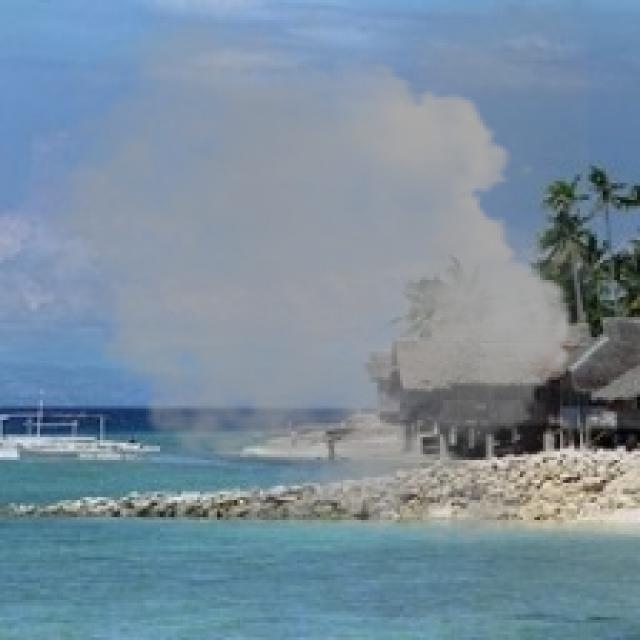Smoke: (20, 3, 589, 566)
